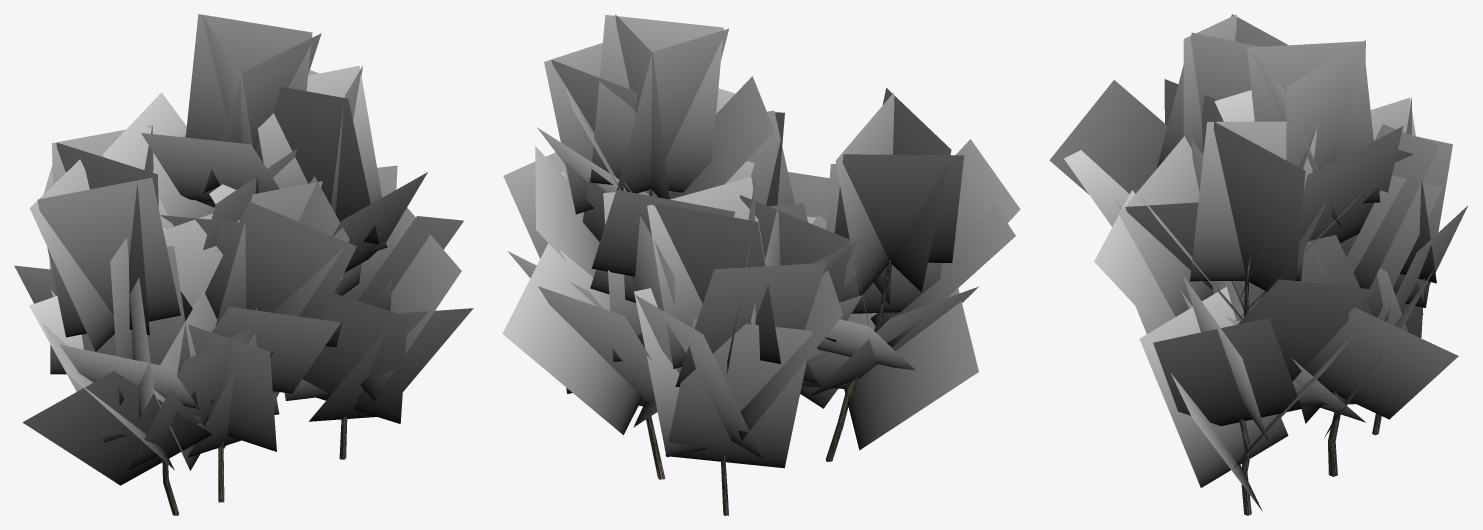
Rendered from tree13B.fbx.
3 views of the same model, side by side, from view 1: azimuth 30°, elevation 25°; view 2: azimuth 150°, elevation 25°; view 3: azimuth 270°, elevation 25° (orthographic). The views are drawn at different scales.
Parts seen in each view (by area): view 1: tree13B_leafs_flip, tree13B_leafs, tree13B_trunk; view 2: tree13B_leafs_flip, tree13B_leafs, tree13B_trunk; view 3: tree13B_leafs_flip, tree13B_leafs, tree13B_trunk.
Part boxes in pixels (x1,y1,x2,y2): tree13B_leafs_flip: [14, 14, 473, 485]; tree13B_leafs: [15, 15, 473, 484]; tree13B_trunk: [162, 287, 347, 515]; tree13B_leafs_flip: [502, 15, 1020, 468]; tree13B_leafs: [504, 14, 1019, 467]; tree13B_trunk: [646, 188, 891, 515]; tree13B_leafs_flip: [1049, 14, 1467, 511]; tree13B_leafs: [1050, 16, 1465, 508]; tree13B_trunk: [1239, 257, 1381, 515].
Bounding box in the file's own units: 9.56 × 8.58 × 7.56.
